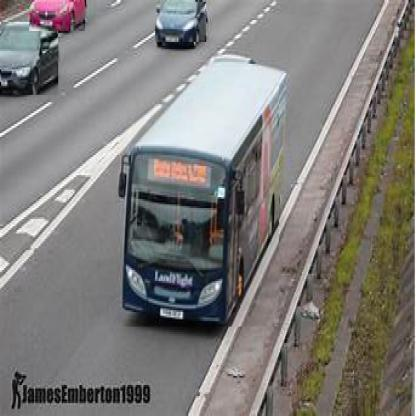bus: (120, 60, 281, 330)
car: (3, 23, 61, 98), (157, 3, 209, 45), (30, 3, 87, 34)
